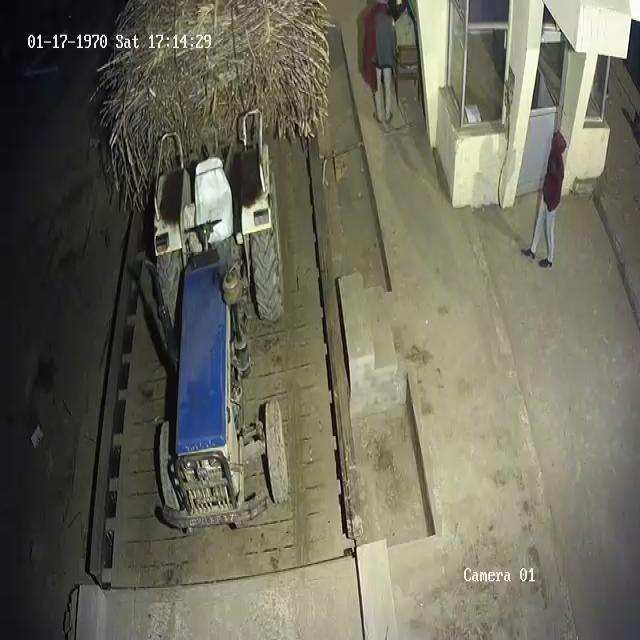Tratores - v5 YOLO V8L 2024-11-13: (142, 170, 293, 534)
